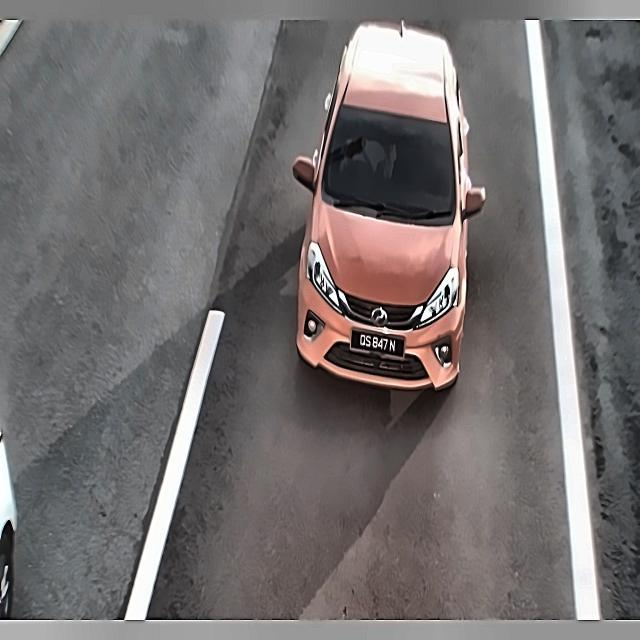car: (346, 322, 410, 366)
